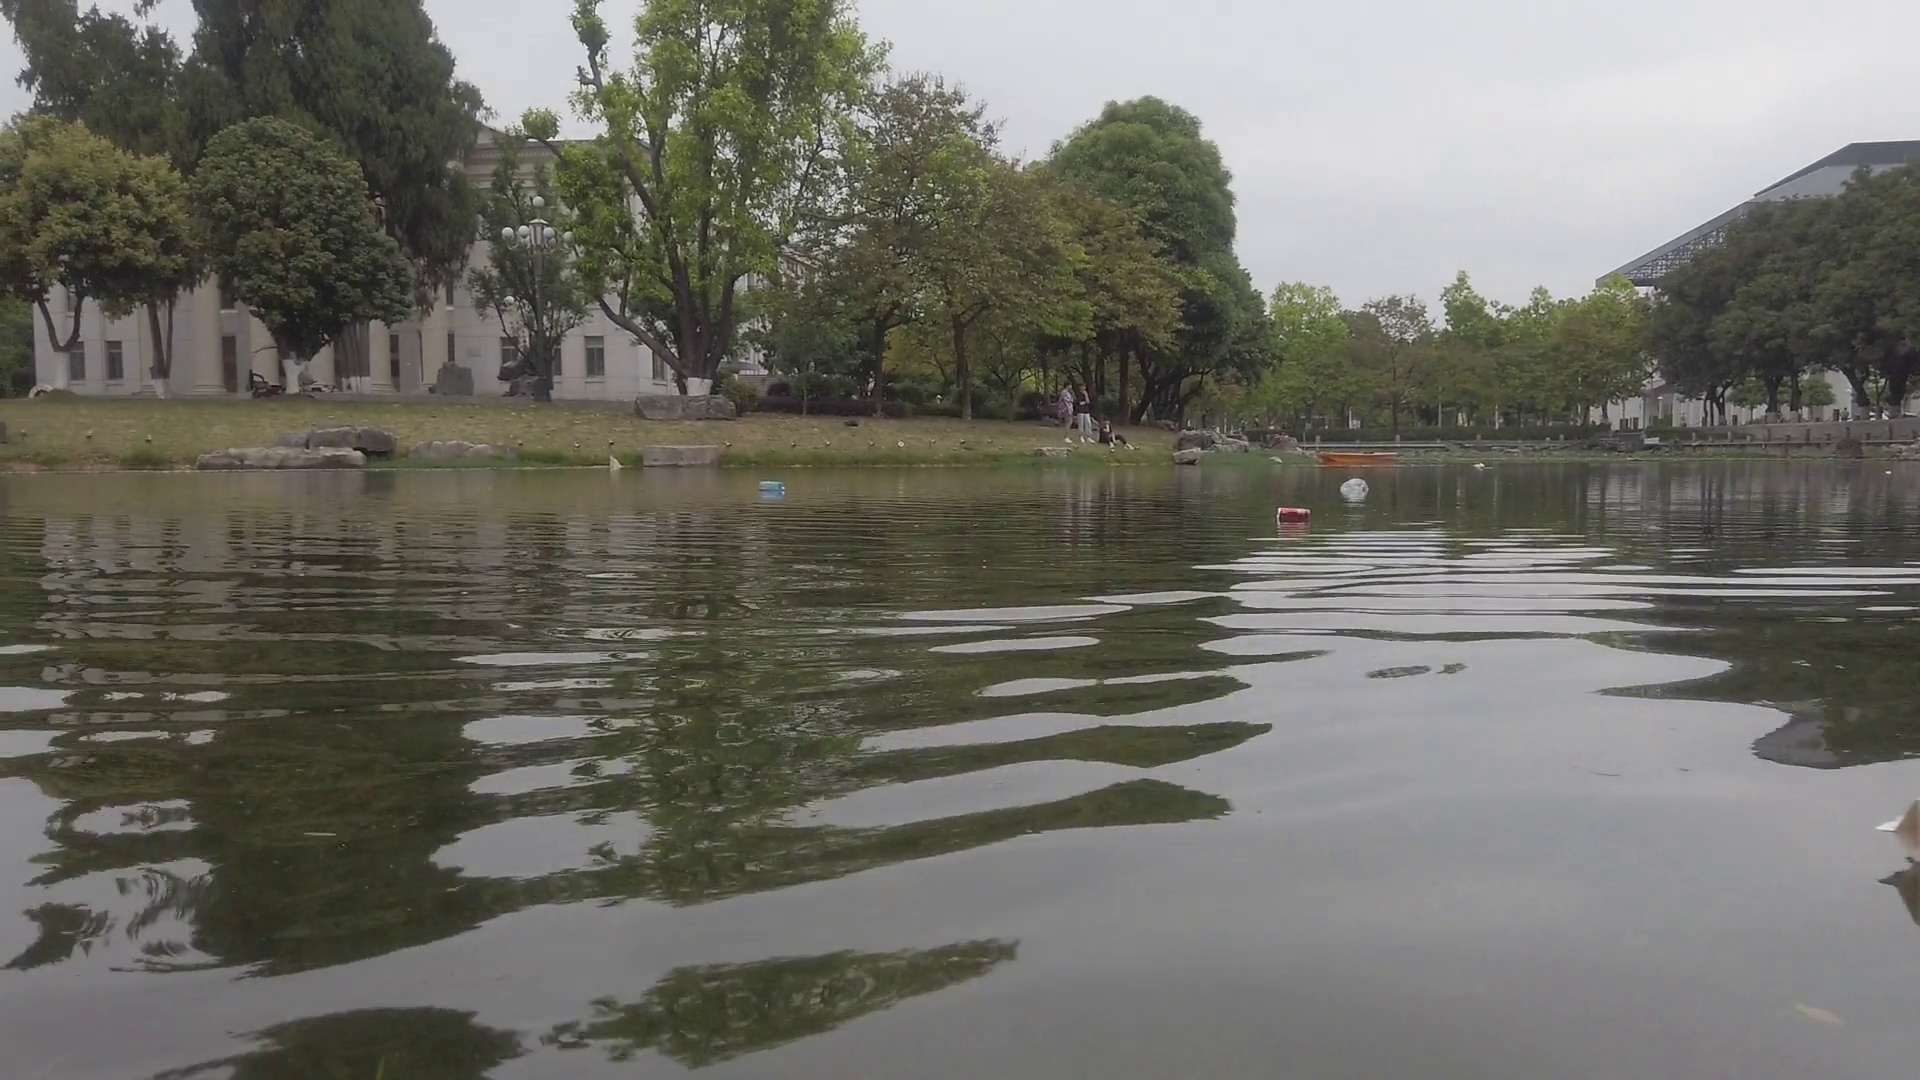bottle: (1278, 506, 1311, 524)
carton: (758, 481, 785, 492)
plastic: (1342, 477, 1370, 500), (1473, 459, 1487, 471)
